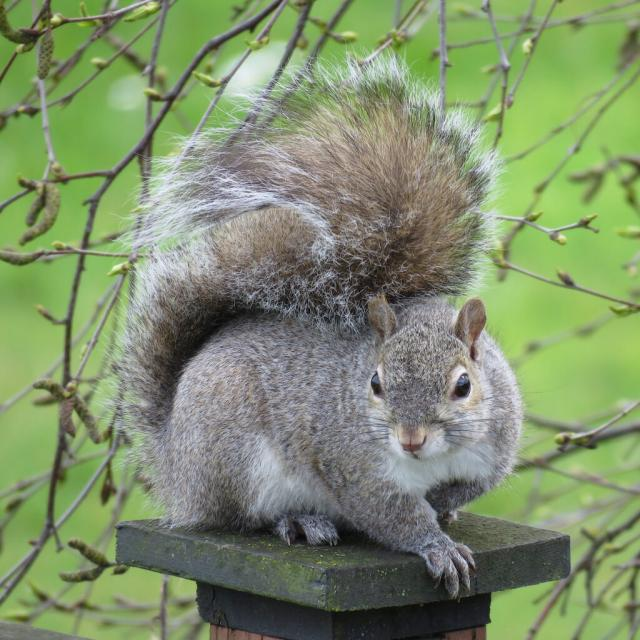Squirrel: (120, 73, 525, 592)
